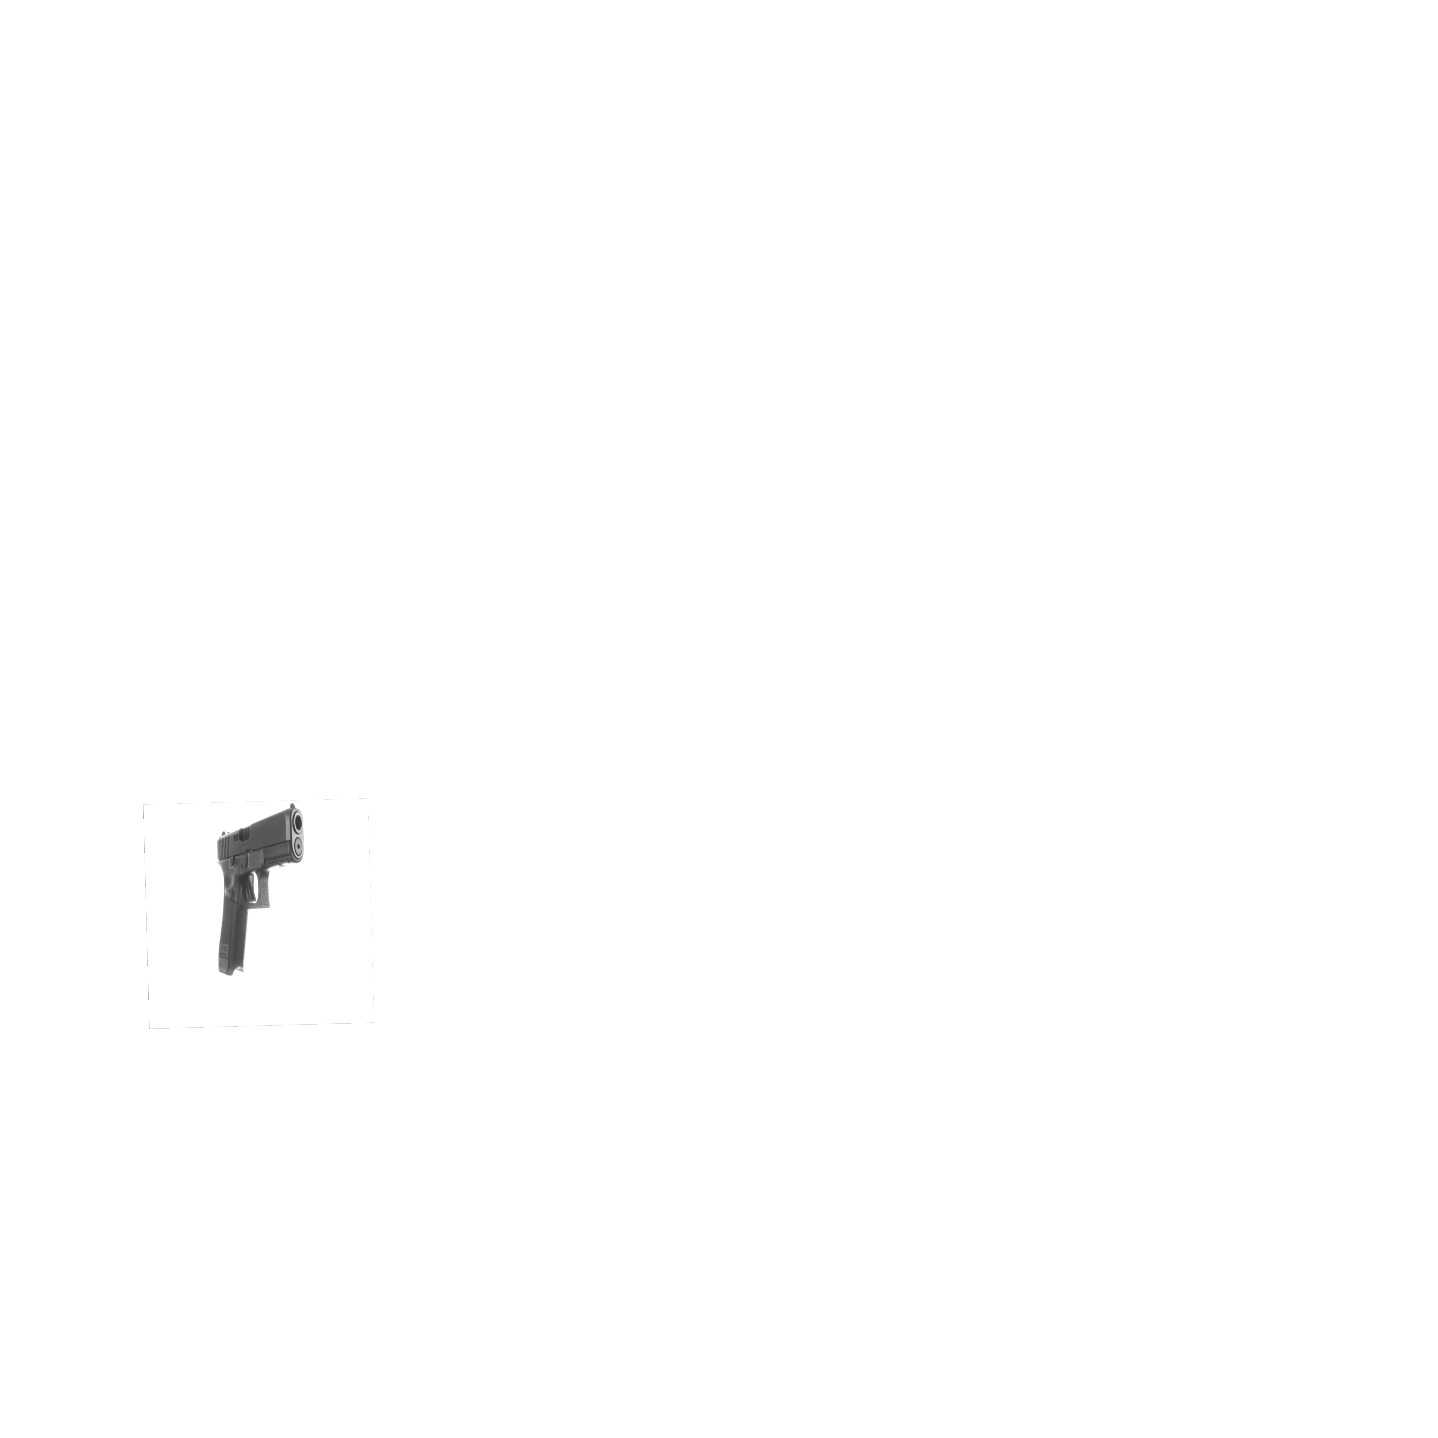gun: (208, 798, 315, 988)
